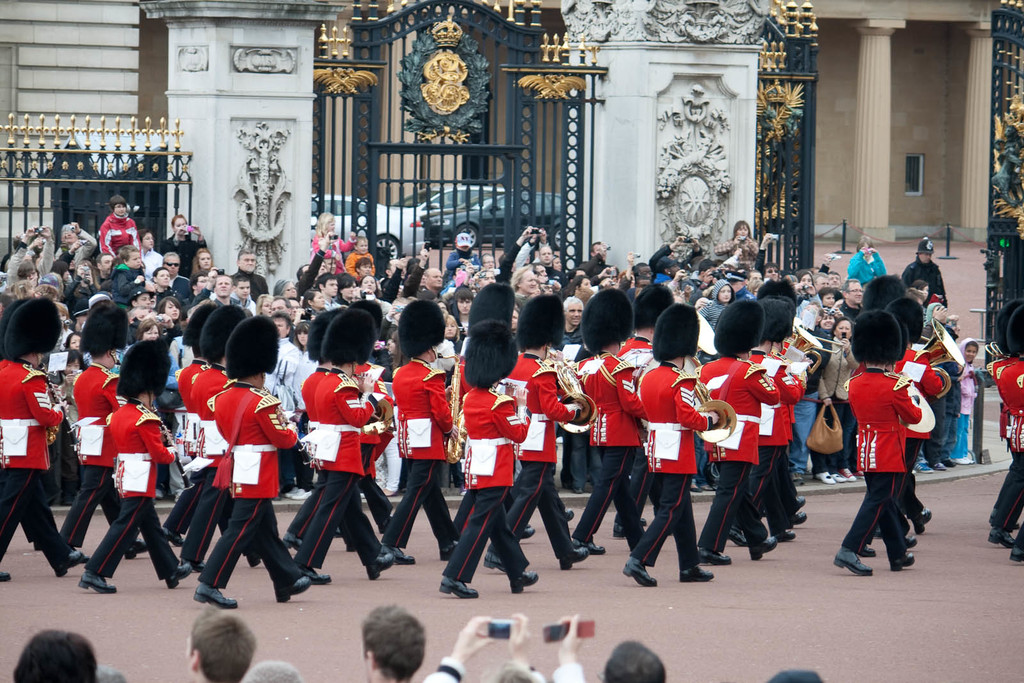Person: (0, 196, 1024, 683)
